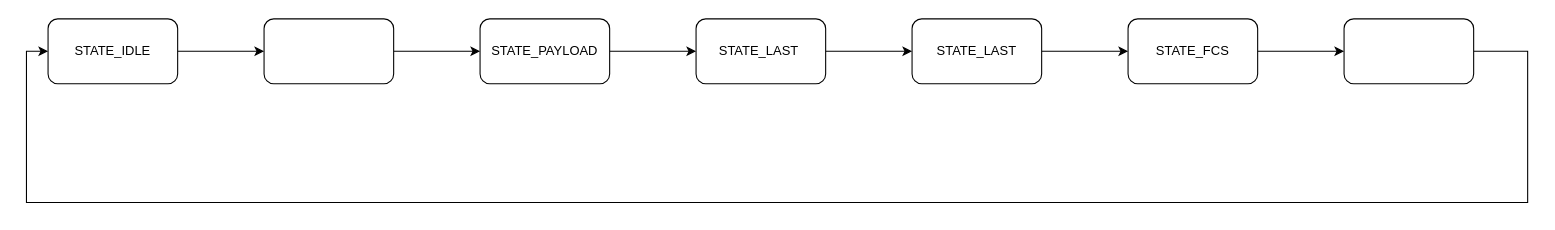
The diagram is 1555 pixels wide and 230 high, and some of its shapes have lost their labels. Here are the shapes that lost their labels. From the top down, the centre of each, then its label:
At (328,51): "STATE_PREAMBLE".
At (1408,51): "STATE_IFG".
